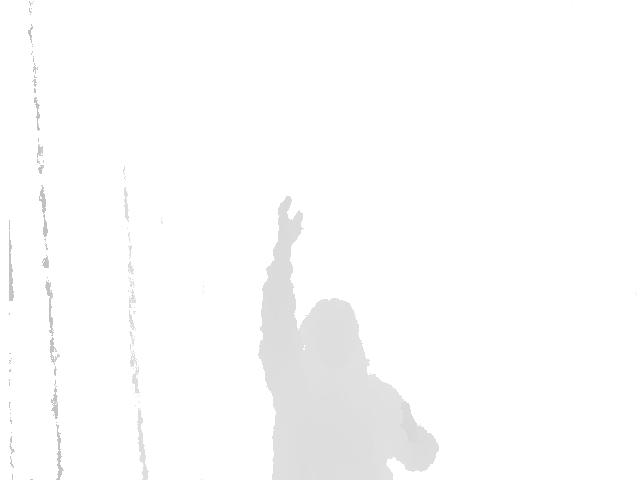hand: (272, 193, 306, 251)
head: (301, 296, 367, 374)
person: (259, 194, 441, 480)
